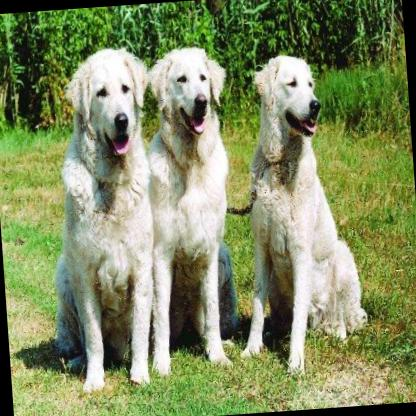kuvasz: (216, 44, 370, 383), (32, 44, 170, 392), (128, 42, 246, 378)
